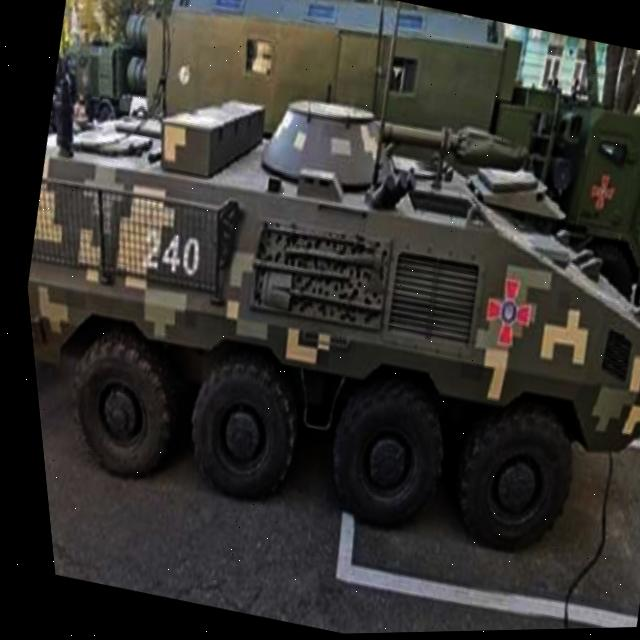MIL_APC: (4, 44, 640, 607)
